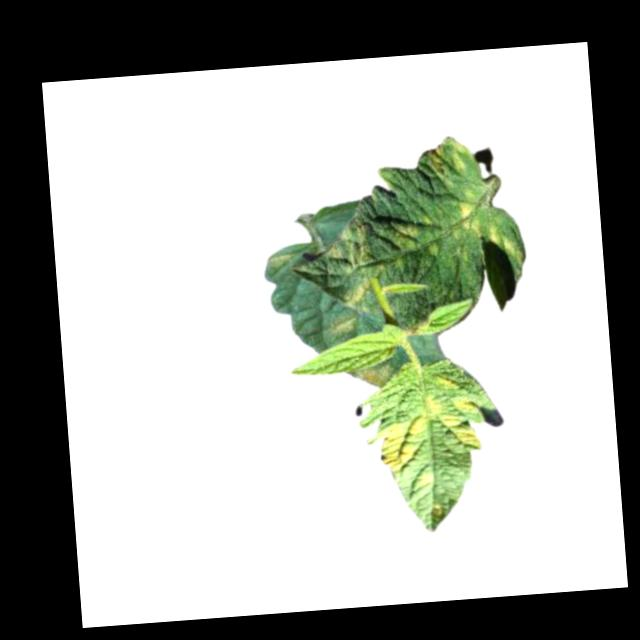Leaf_Mold: (425, 390, 485, 453), (376, 415, 427, 473), (423, 134, 472, 187), (319, 221, 373, 268), (349, 360, 398, 392), (455, 202, 486, 237), (390, 220, 422, 252), (341, 277, 373, 306), (326, 313, 361, 339), (264, 249, 293, 269), (417, 469, 436, 491), (487, 224, 503, 248), (435, 372, 456, 390)
